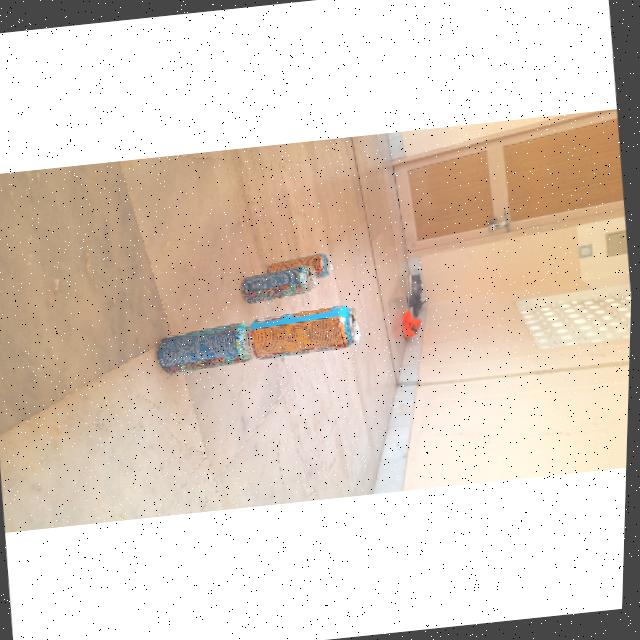Monster Aussie Lemonade: (155, 320, 256, 374), (242, 265, 317, 304)
Monster Mango Loco: (249, 302, 365, 359), (272, 254, 334, 270)
